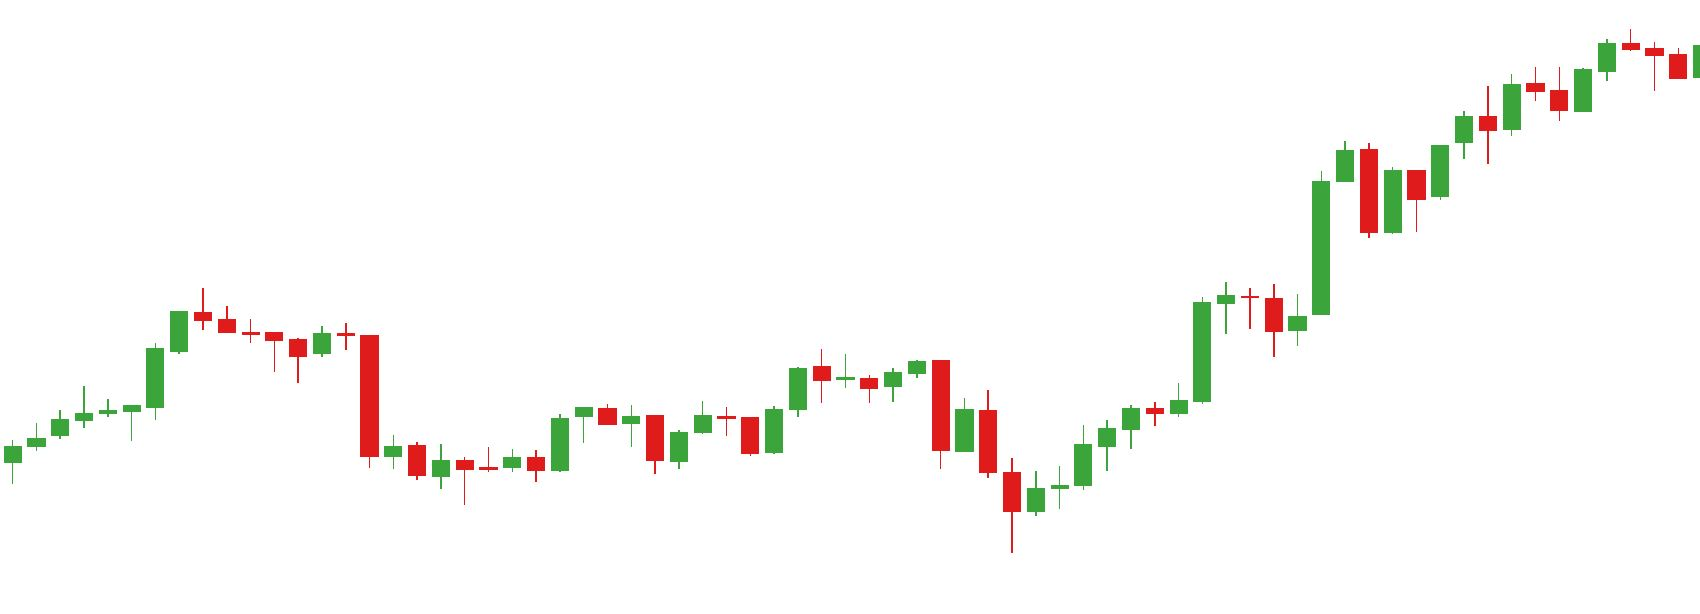buy: (637, 397, 1097, 559)
